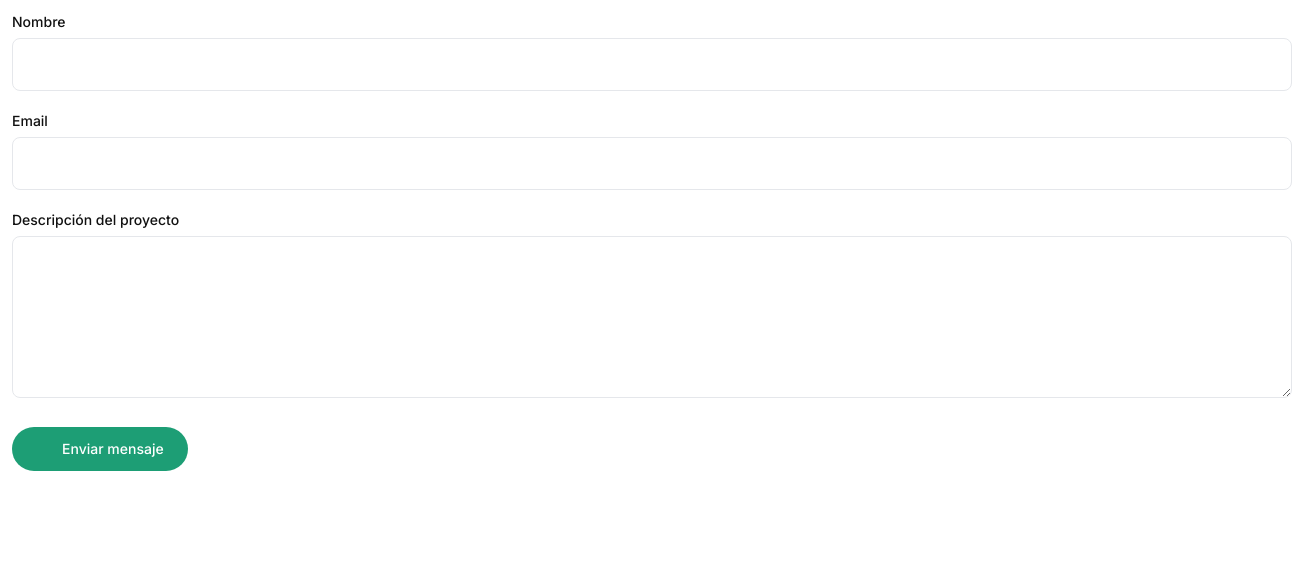
Test: ContactForm › shows validation errors when submitting empty
Step 1. Click the button "Enviar mensaje" → x=100, y=448, box [12,426,188,470]
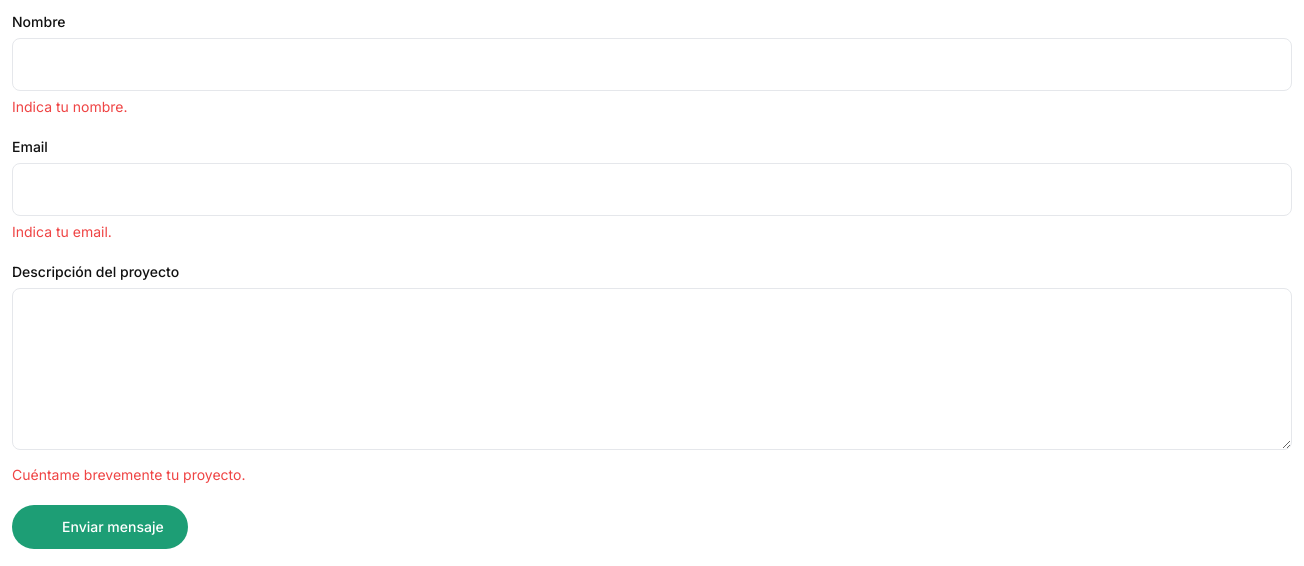
Result: the text "Indica tu nombre." is shown at [12,98,128,115]
Result: the text "Indica tu email." is shown at [12,223,112,240]
Result: the text "Cuéntame brevemente tu proyecto." is shown at [12,466,246,482]
